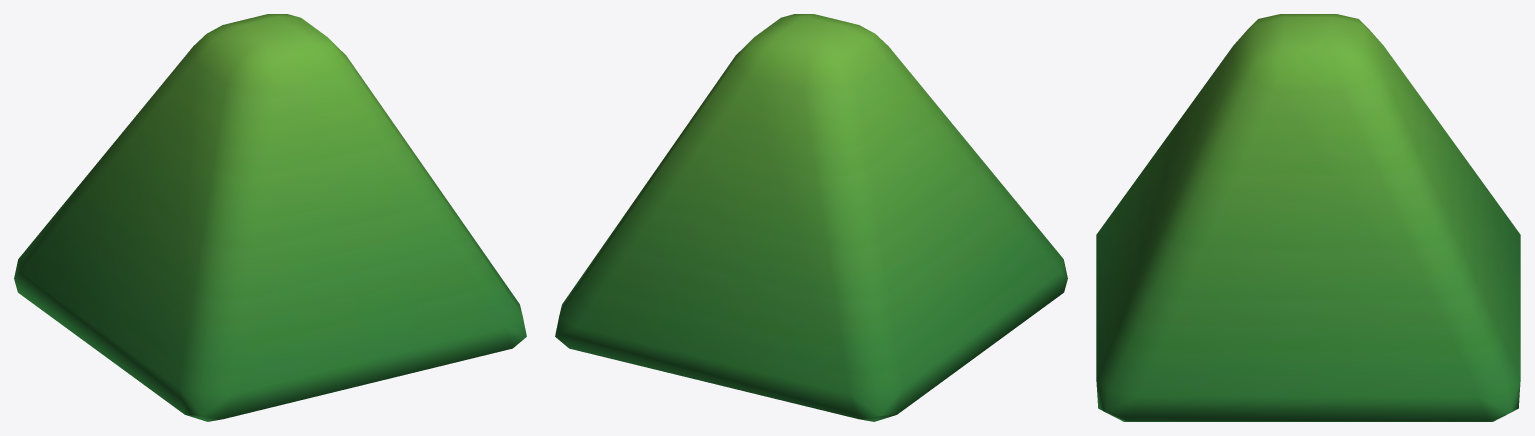
Rendered from bush_4_c_color1.glb.
3 views of the same model, side by side, from view 1: azimuth 30°, elevation 25°; view 2: azimuth 150°, elevation 25°; view 3: azimuth 270°, elevation 25° (orthographic). The views are drawn at different scales.
Visible parts, largest first — view 1: Bush_4_C_Color1; view 2: Bush_4_C_Color1; view 3: Bush_4_C_Color1.
Boxes of the visible parts, left/top/right/bottom form: Bush_4_C_Color1: left=14, top=14, right=526, bottom=421; Bush_4_C_Color1: left=555, top=14, right=1067, bottom=421; Bush_4_C_Color1: left=1096, top=14, right=1520, bottom=421.
Size of the model in its own units: 1.58 by 1.3 by 1.58.
1 material, 1 textured.
